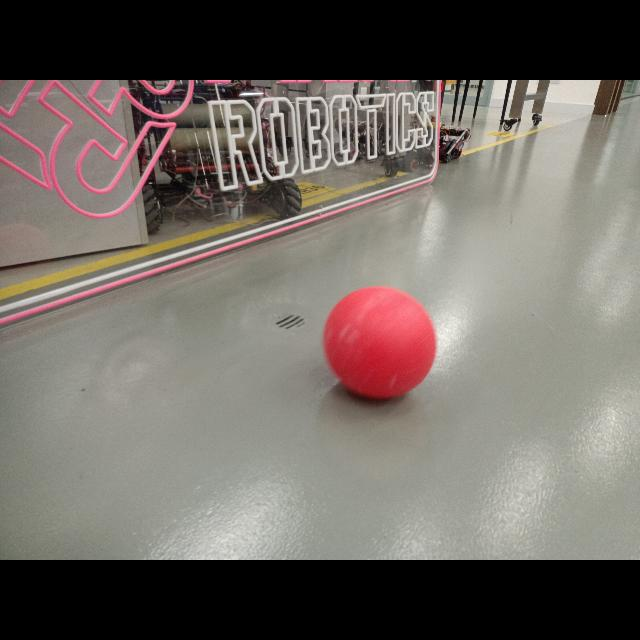R: (322, 286, 436, 400)
